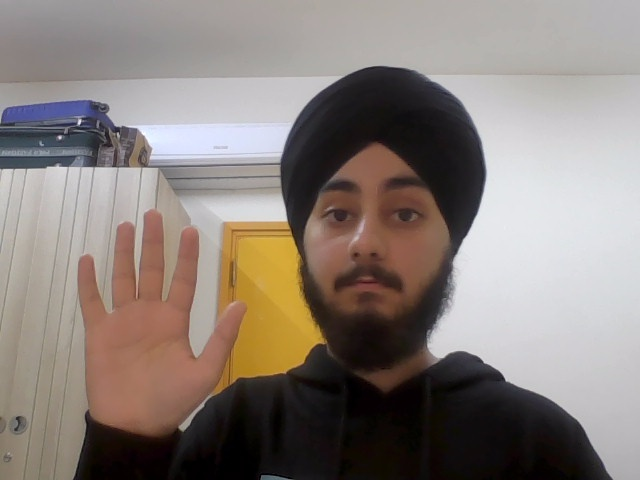Hello: (76, 207, 248, 433)
